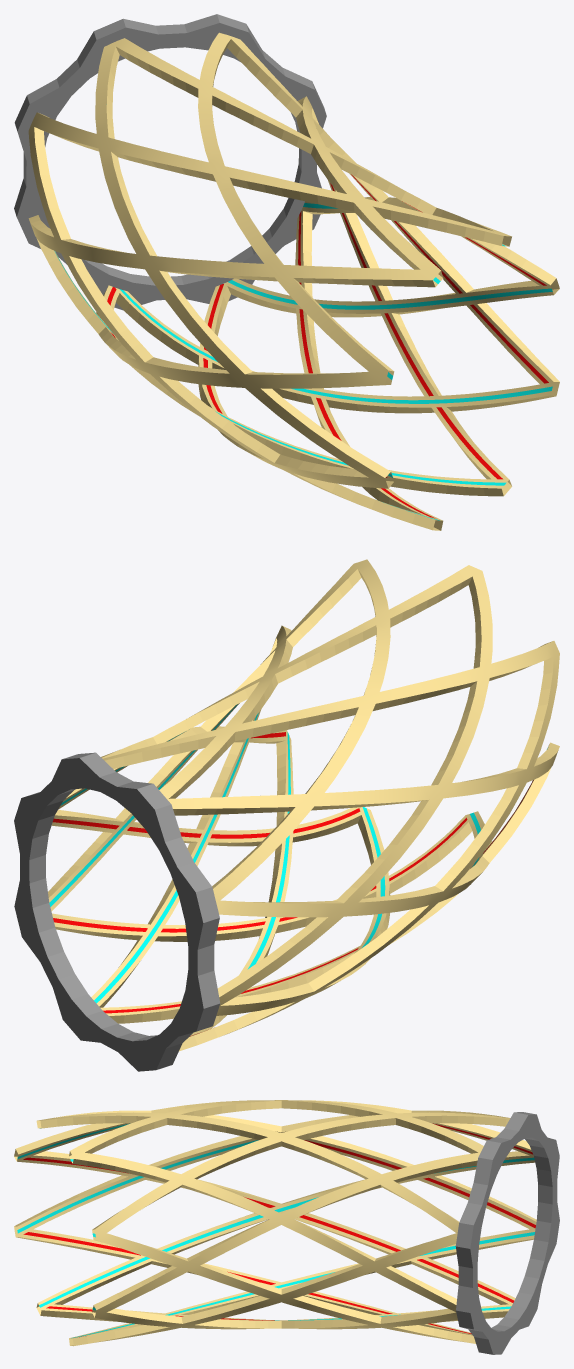
File: SM_Ring_InnerTubing.FBX
The picture shows the model from 3 angles, top to bottom: view 1: azimuth 30°, elevation 25°; view 2: azimuth 150°, elevation 25°; view 3: azimuth 270°, elevation 25°; orthographic projection. The views are drawn at different scales.
Visible parts, largest first — view 1: Tube001; view 2: Tube001; view 3: Tube001.
Part boxes in pixels (<box>): Tube001: <box>14,14,559,530</box>; Tube001: <box>14,559,559,1071</box>; Tube001: <box>14,1100,559,1354</box>.
Size of the model in its own units: 2660 by 2340 by 5452.
